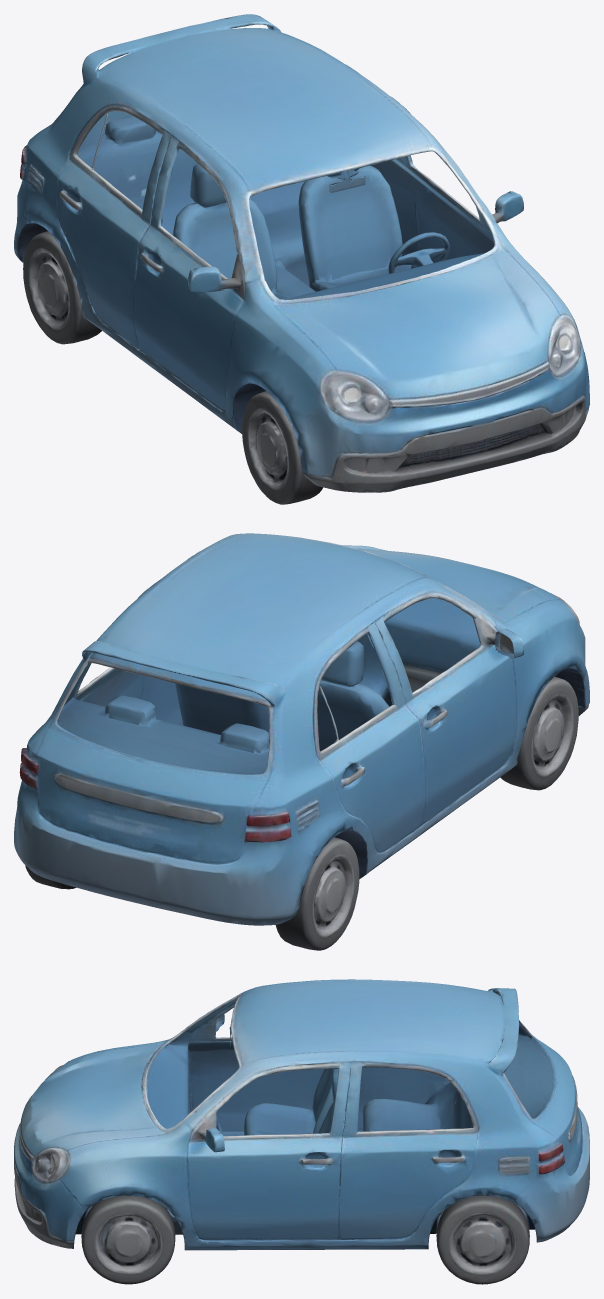
File: carro_popular.glb
3 views of the same model, one above another, from view 1: azimuth 30°, elevation 25°; view 2: azimuth 150°, elevation 25°; view 3: azimuth 270°, elevation 25° (orthographic). The views are drawn at different scales.
Visible parts, largest first — view 1: tripo_node_9faf0119-3f45-42c4-8fbe-f8e03fa07ba1; view 2: tripo_node_9faf0119-3f45-42c4-8fbe-f8e03fa07ba1; view 3: tripo_node_9faf0119-3f45-42c4-8fbe-f8e03fa07ba1.
Part boxes in pixels (left/top/right/bottom): tripo_node_9faf0119-3f45-42c4-8fbe-f8e03fa07ba1: left=14, top=14, right=589, bottom=504; tripo_node_9faf0119-3f45-42c4-8fbe-f8e03fa07ba1: left=14, top=533, right=589, bottom=950; tripo_node_9faf0119-3f45-42c4-8fbe-f8e03fa07ba1: left=14, top=979, right=589, bottom=1284.
Bounding box in the file's own units: 2.11 × 1.64 × 3.9.
Materials: 1 (1 with a texture image).
